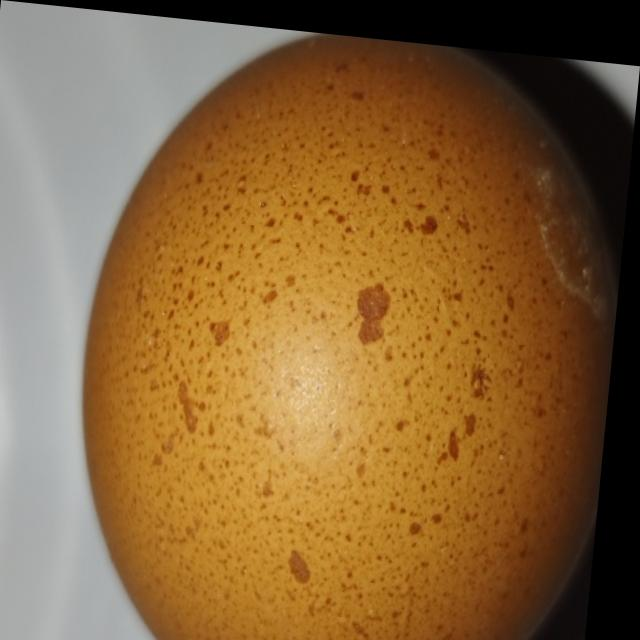unfresh: (46, 8, 640, 640)
